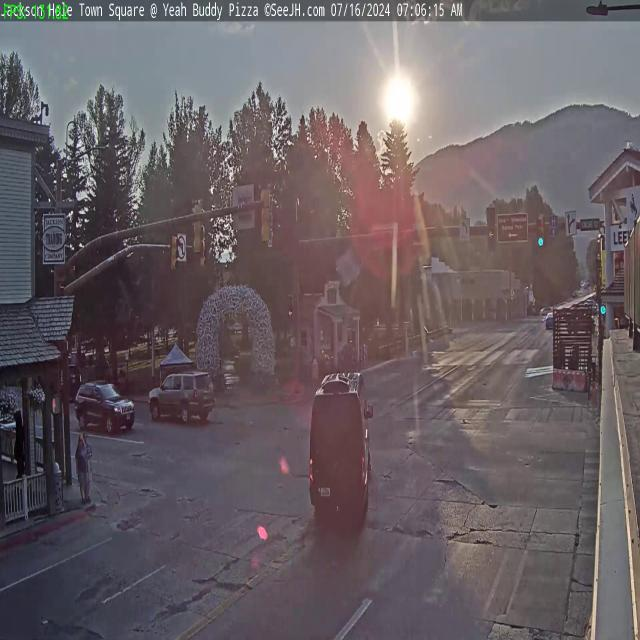person: (76, 413, 89, 502)
suv: (149, 368, 217, 430), (73, 380, 136, 435)
traffic light: (260, 184, 273, 244), (191, 200, 203, 256), (487, 207, 496, 250), (536, 214, 546, 248), (171, 234, 180, 271)
van: (304, 374, 374, 532)
